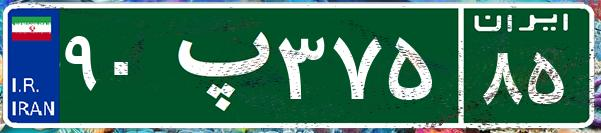0: (110, 28, 158, 105)
3: (273, 28, 330, 110)
5: (385, 28, 445, 110), (525, 38, 570, 115)
7: (330, 28, 385, 110)
8: (475, 38, 525, 113)
9: (57, 26, 110, 107)
پ: (158, 15, 273, 115)
